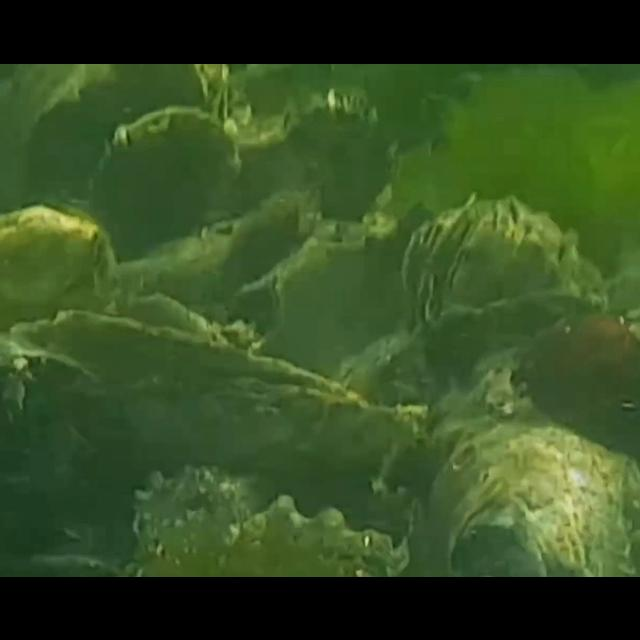Oyster-Closed: (9, 307, 363, 468), (336, 286, 624, 414), (424, 416, 640, 576), (130, 460, 410, 576), (402, 192, 582, 332), (91, 104, 243, 260), (270, 232, 410, 390), (277, 87, 391, 229), (0, 202, 112, 330)
